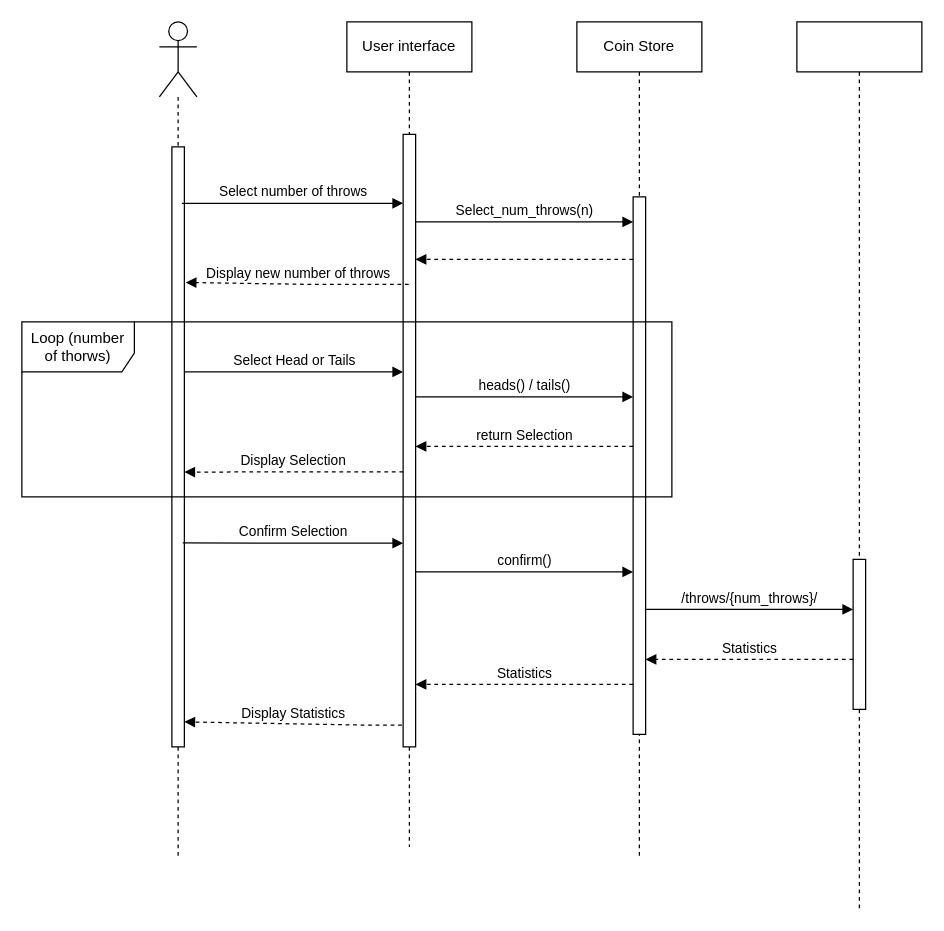
This 944x931 diagram has some shape labels left out. Here are the shapes that lost their labels. From the top down, the box of each, then its label:
(158, 21, 197, 97): Student
(796, 21, 922, 909): API
